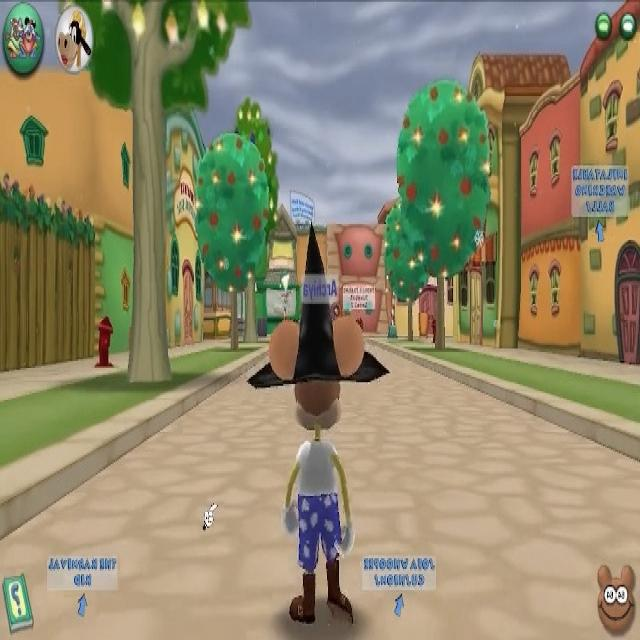pencilpusher: (342, 284, 375, 356)
